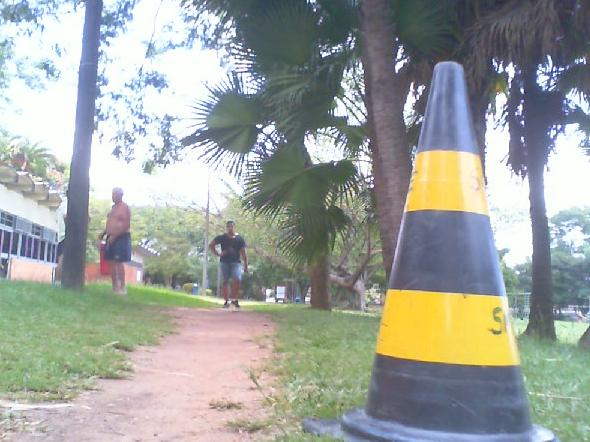0 cone: (300, 62, 590, 442)
